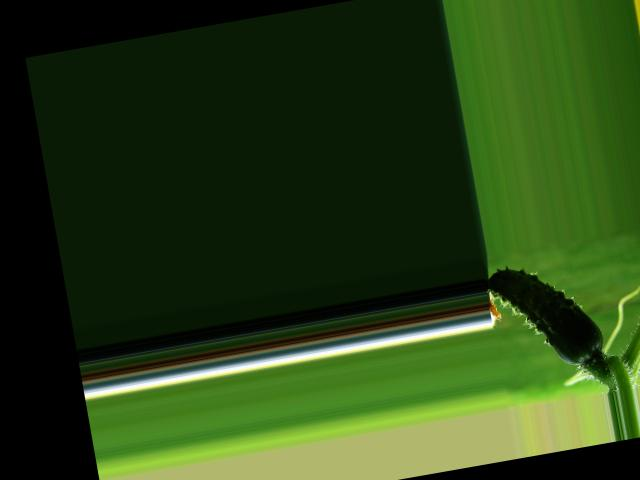cucumber: (486, 253, 608, 376)
